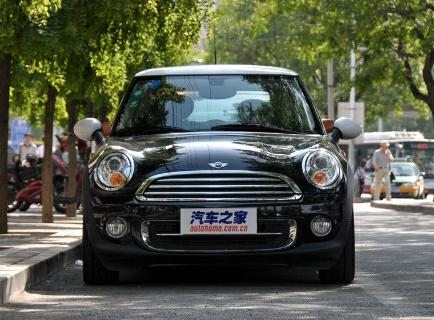MINI: (64, 63, 376, 283), (80, 72, 359, 289)
